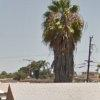Tree: (40, 0, 84, 67)
